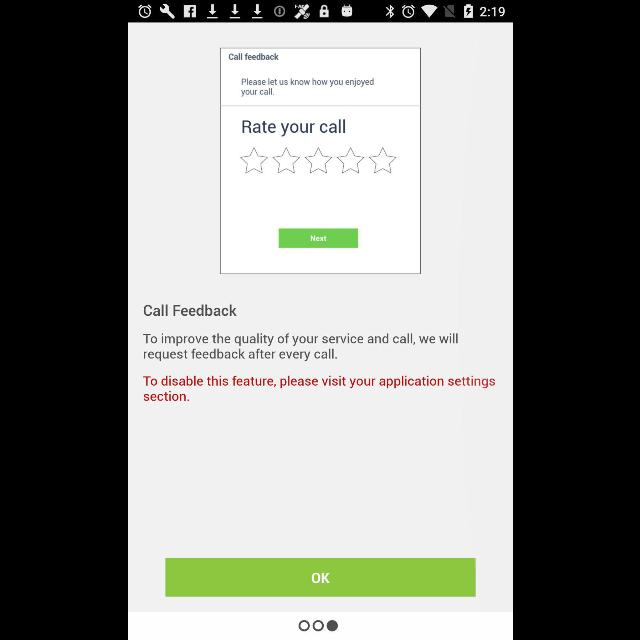image: (220, 48, 420, 274)
pageindicator: (298, 620, 338, 632)
text: (142, 375, 494, 401), (142, 333, 458, 361), (142, 304, 235, 316)
textbutton: (165, 558, 475, 596)
uppertaskbar: (128, 1, 512, 23)
